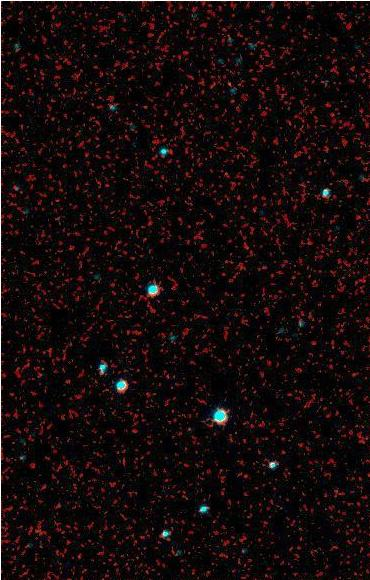star: (212, 63, 242, 93)
